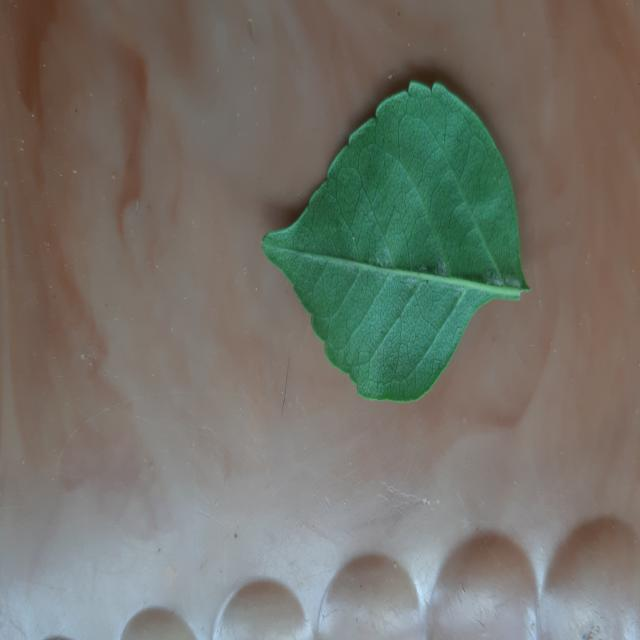tecoma: (262, 82, 529, 402)
